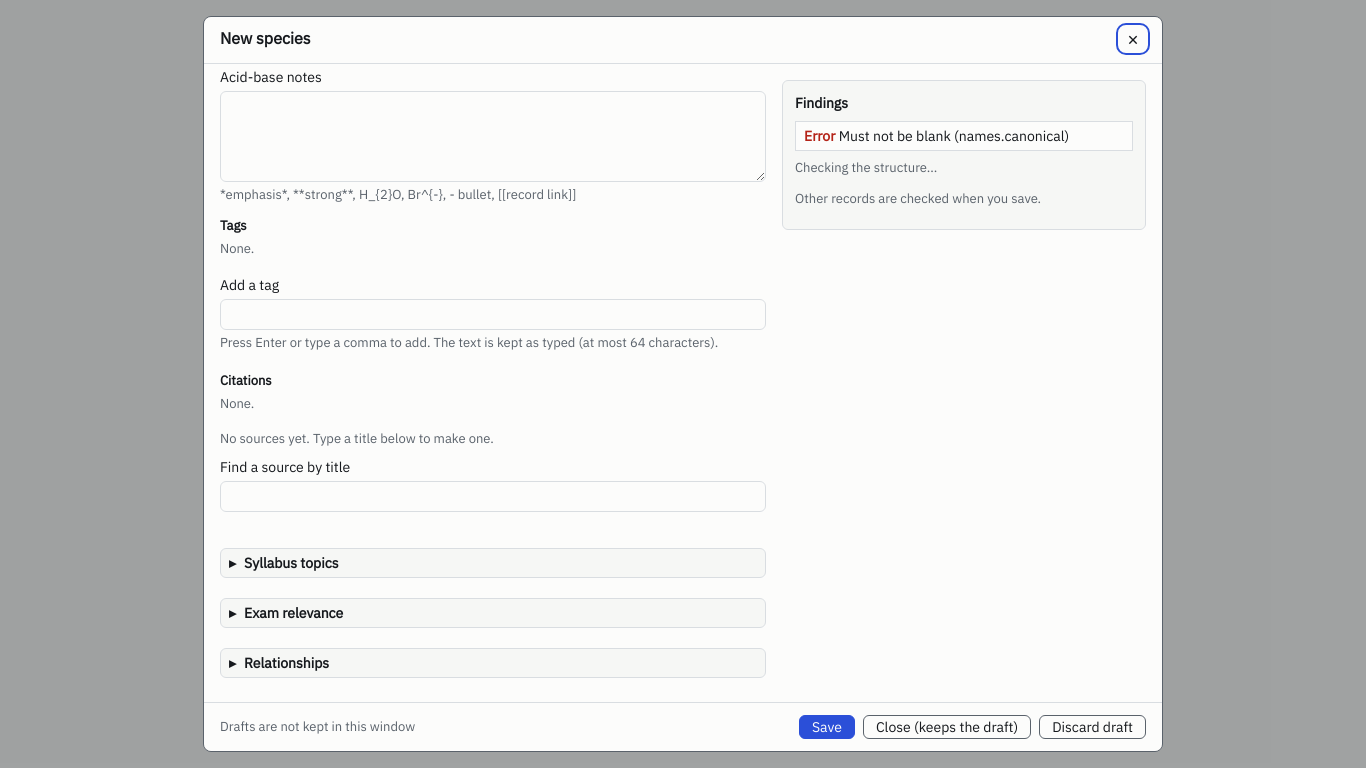
Test: Syllabus topics › says "Not mapped to a topic." for a record with none, and on a record not saved yet the button says to save it first
(page scrolled)
Step 1. Click the button "▸ Syllabus topics" → coordinates (291, 563), box top-left (220, 548), bottom-right (766, 578)
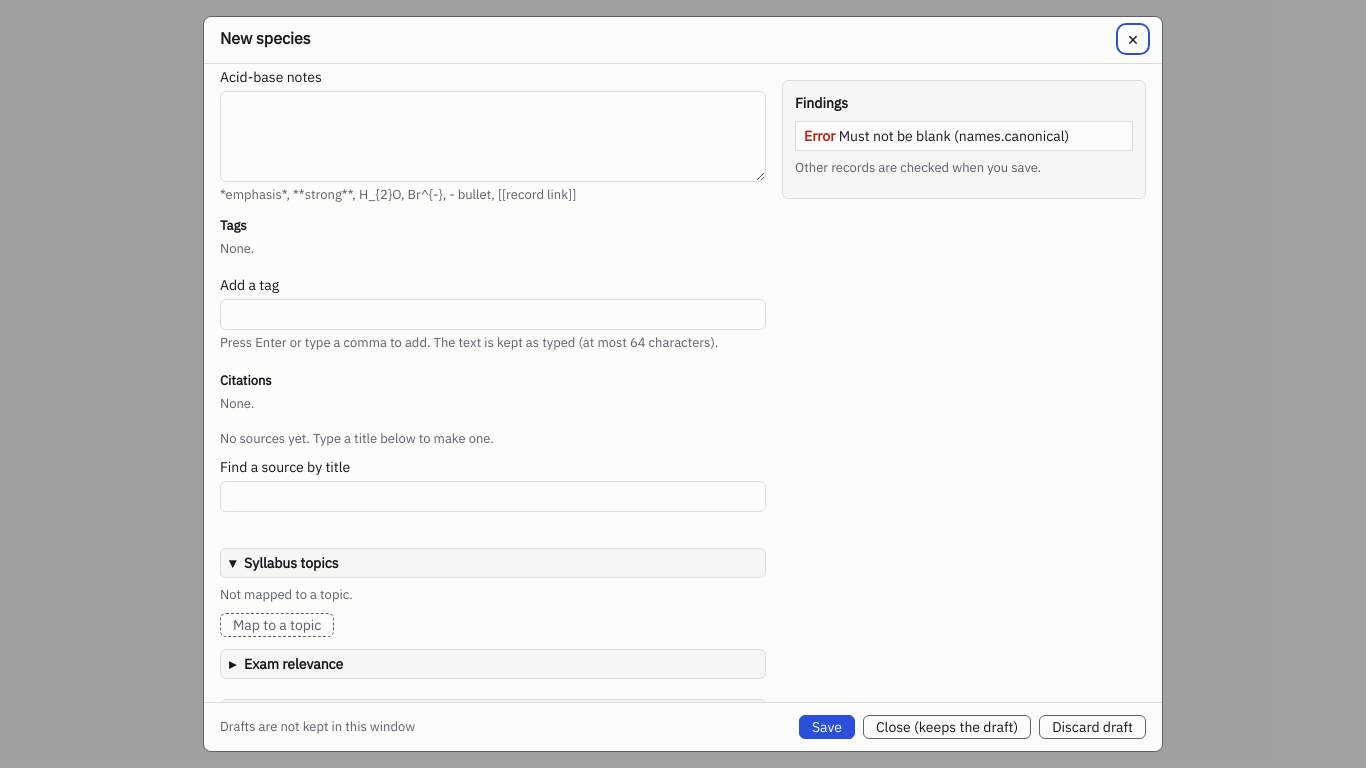
Expected: the text "Not mapped to a topic." is shown, top-left (220, 586), bottom-right (353, 603)
